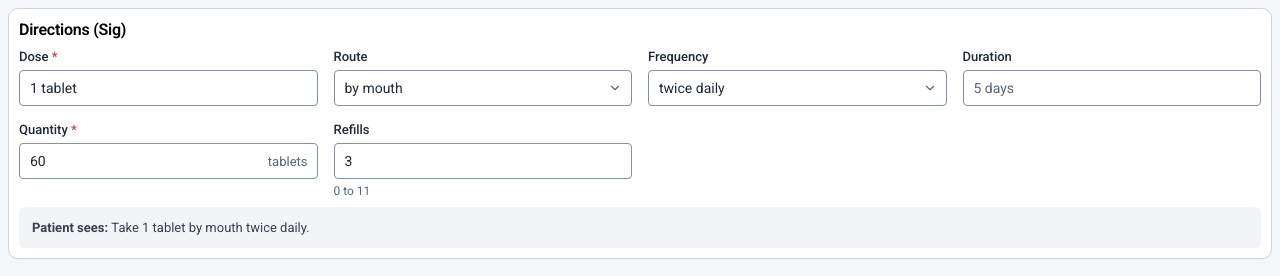
Test case: SigBuilder › seeds the fields from value and updates the preview as you edit
This screenshot has width=1280, height=276.
Expected: the text "Take 1 tablet by mouth twice daily." is shown, [111,220,310,235]
Step 1. Select "at bedtime" in the dropdown labelled "Frequency" → (797, 88), box [648,70,946,106]
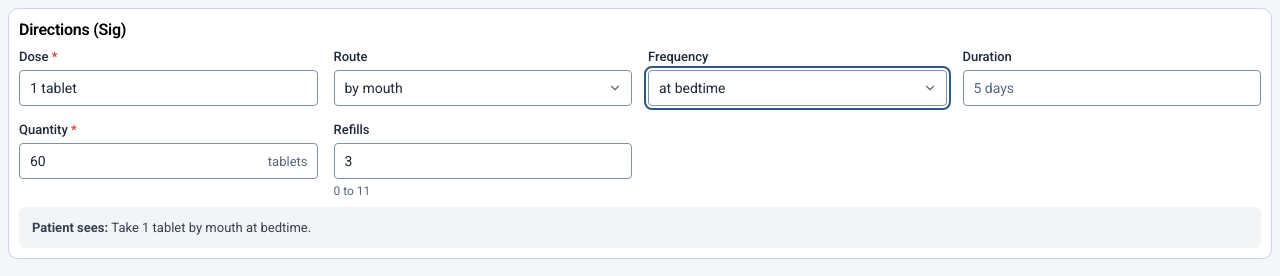
Step 2. Type "2 tablets" into the field labelled "Dose *" → (168, 88), box [19,70,318,106]
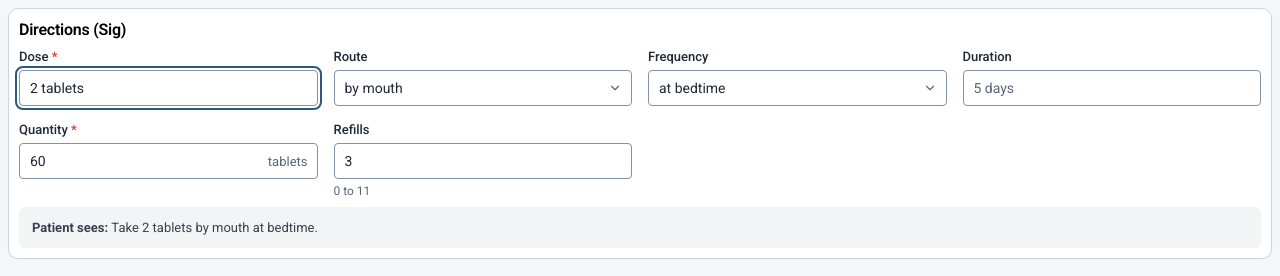
Now the text "Take 2 tablets by mouth at bedtime." is shown, box [111,220,318,235]
